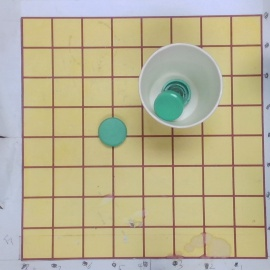cup_green: (138, 41, 223, 130)
green: (98, 118, 126, 148)
